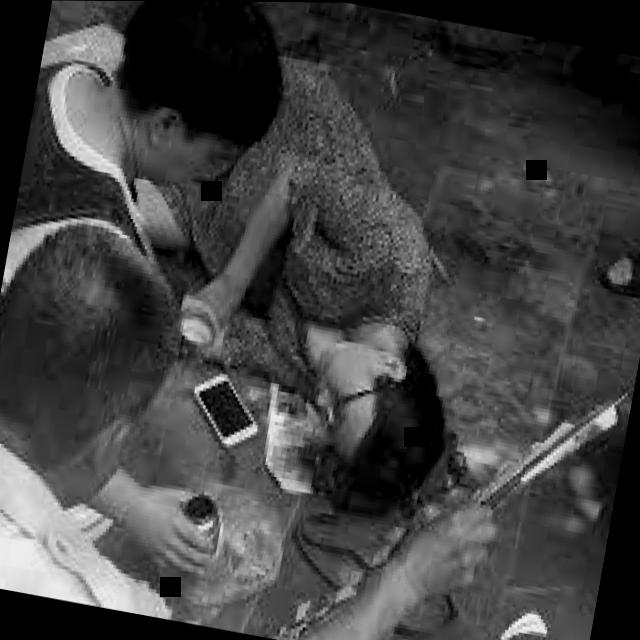Fall-Detected: (61, 8, 554, 514)
